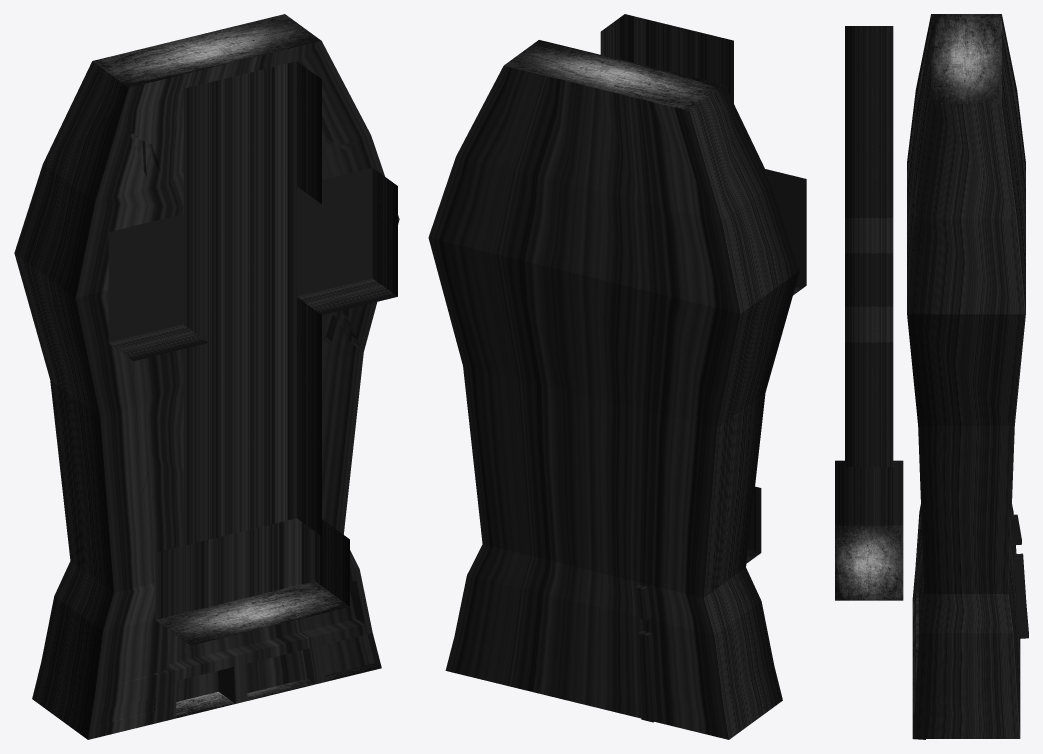
File: stone2.fbx
The picture shows the model from 3 angles, left to right: view 1: azimuth 30°, elevation 25°; view 2: azimuth 150°, elevation 25°; view 3: azimuth 270°, elevation 25°; orthographic projection. The views are drawn at different scales.
Visible parts, largest first — view 1: Plane.017; view 2: Plane.017; view 3: Plane.017.
Boxes of the visible parts, x1,y1,x2,y2 form: Plane.017: [14, 14, 399, 739]; Plane.017: [428, 14, 806, 739]; Plane.017: [835, 14, 1028, 739].
Bounding box in the file's own units: 243 × 459 × 131.
